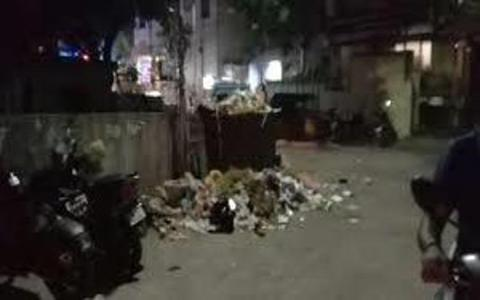overflowing garbage: (200, 92, 298, 240)
